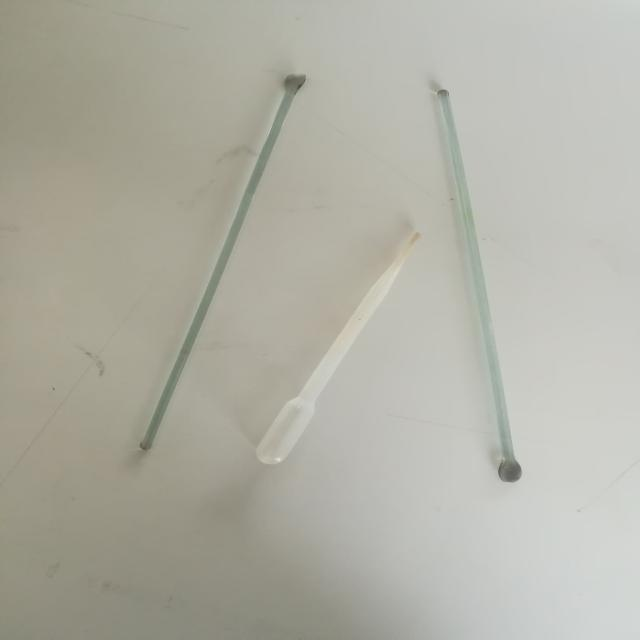Glass_Rod: (41, 18, 323, 465), (424, 52, 540, 512)
Pipette: (239, 205, 418, 489)
